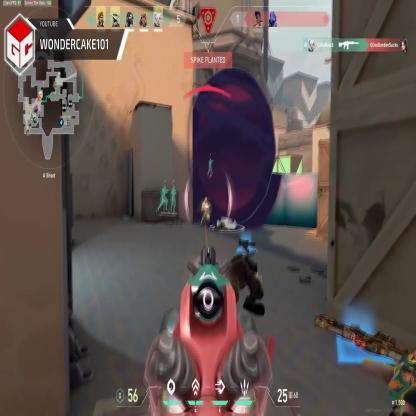enemy: (200, 196, 212, 229)
enemy_head: (204, 196, 208, 203)
